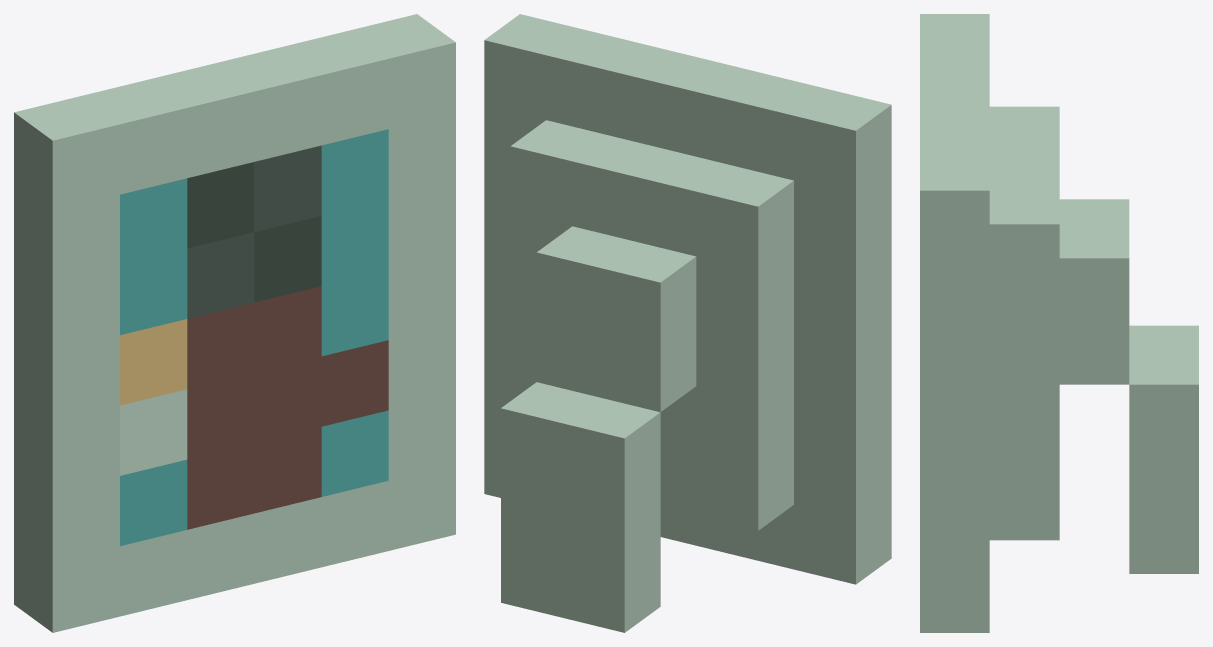
File: picture_frame.glb
The picture shows the model from 3 angles, left to right: view 1: azimuth 30°, elevation 25°; view 2: azimuth 150°, elevation 25°; view 3: azimuth 270°, elevation 25°; orthographic projection. The views are drawn at different scales.
Visible parts, largest first — view 1: Untitled.004; view 2: Untitled.004; view 3: Untitled.004.
Part boxes in pixels (x1,y1,x2,y2): Untitled.004: (14,14,455,632); Untitled.004: (484,14,891,632); Untitled.004: (920,14,1198,632).
Bounding box in the file's own units: 0.12 × 0.14 × 0.08.
1 material, 1 textured.
